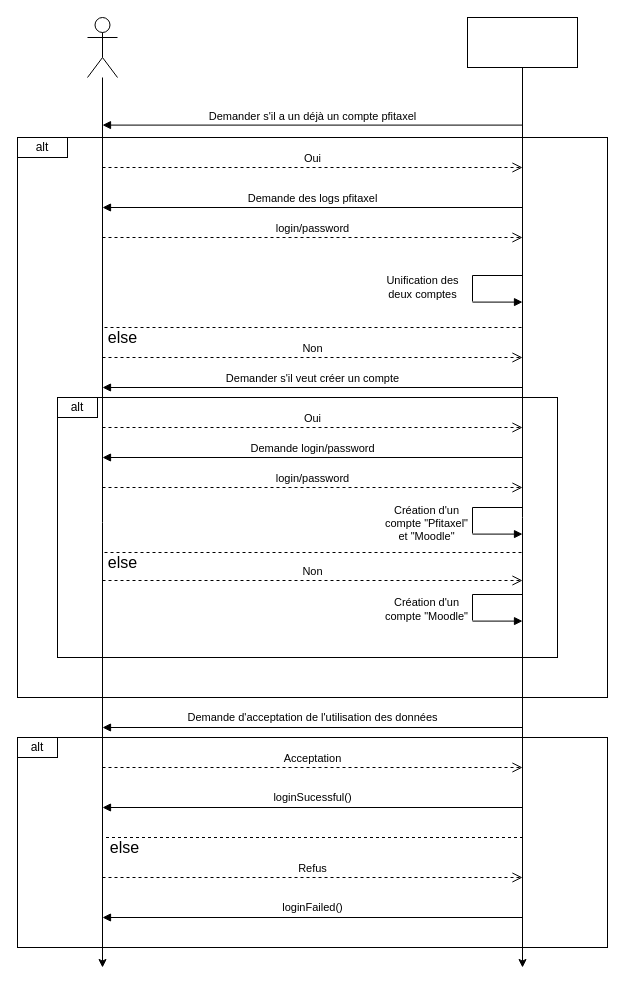
The diagram is 625 pixels wide and 993 high, and some of its shapes have lost their labels. Each missing label, with the centre of its shape:
Pfitaxel: point (522, 42)
User: point (102, 47)
